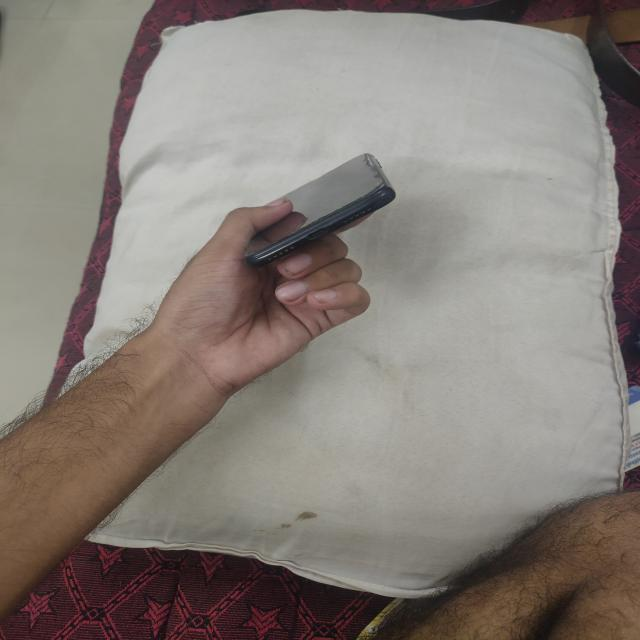Phone: (237, 149, 400, 274)
